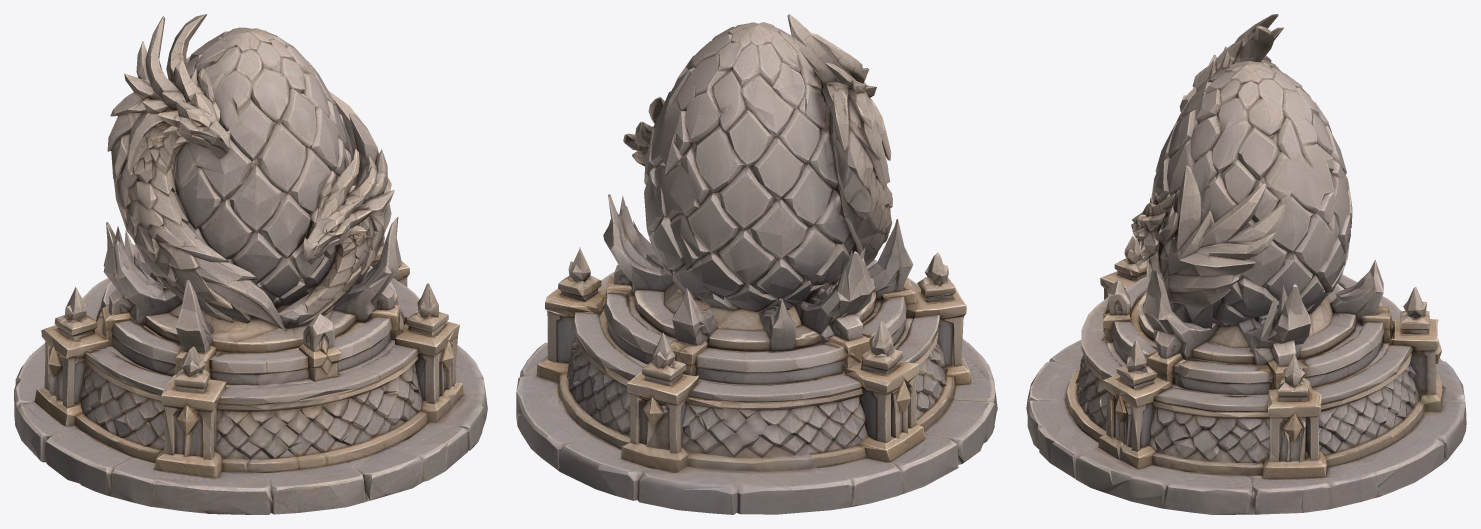
File: eggstatue.glb
The picture shows the model from 3 angles, left to right: view 1: azimuth 30°, elevation 25°; view 2: azimuth 150°, elevation 25°; view 3: azimuth 270°, elevation 25°; orthographic projection. The views are drawn at different scales.
Bounding box in the file's own units: 1.9 × 1.81 × 1.9.
Materials: 1 (1 with a texture image).
